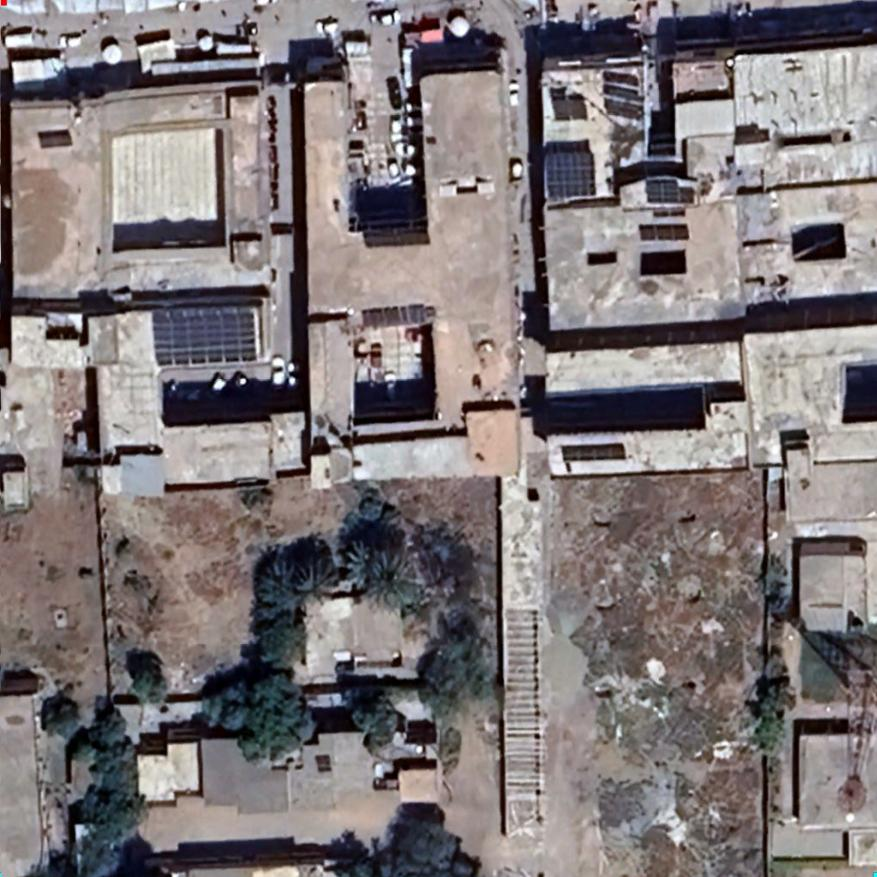Solarpanel: (144, 302, 268, 368), (537, 141, 601, 202), (598, 67, 648, 118), (638, 176, 698, 207)
